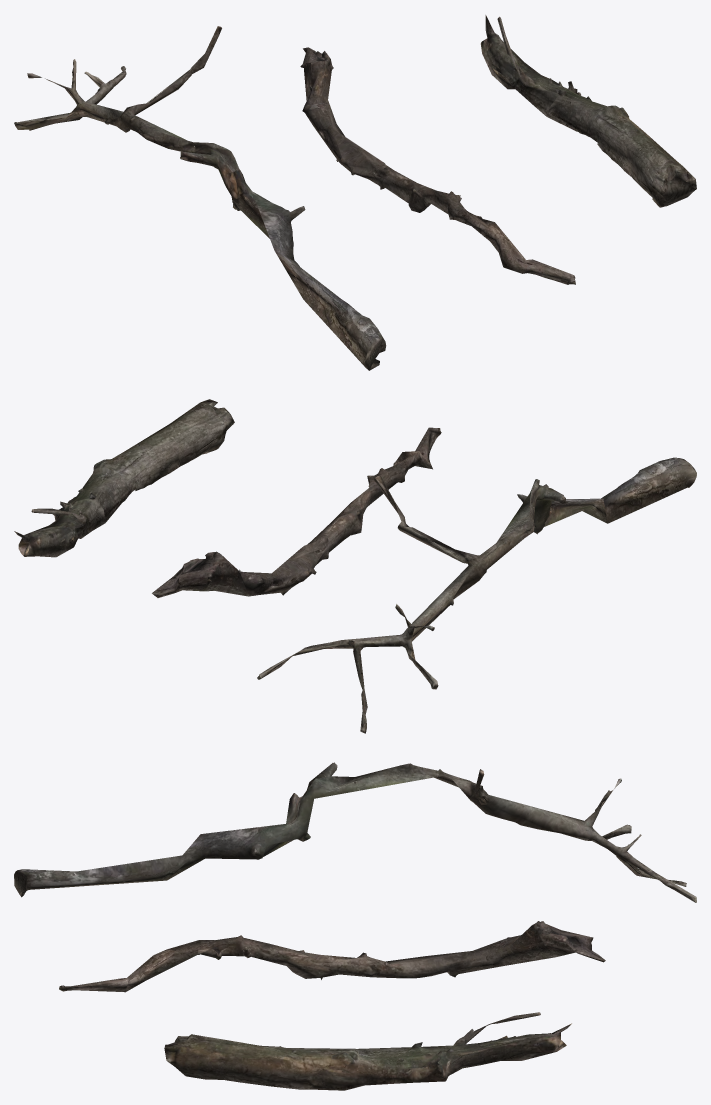
File: dry_branches_medium_01.glb
3 renders of one model, top to bottom at view 1: azimuth 30°, elevation 25°; view 2: azimuth 150°, elevation 25°; view 3: azimuth 270°, elevation 25°, orthographic. The views are drawn at different scales.
Visible parts, largest first — view 1: dry_branches_medium_01_c; view 2: dry_branches_medium_01_c; view 3: dry_branches_medium_01_c.
Part boxes in pixels (left/top/right/bottom): dry_branches_medium_01_c: left=14, top=15, right=696, bottom=370; dry_branches_medium_01_c: left=14, top=399, right=696, bottom=733; dry_branches_medium_01_c: left=14, top=762, right=696, bottom=1090.
Bounding box in the file's own units: 1.06 × 0.3401 × 1.3.
1 material, 1 textured.
